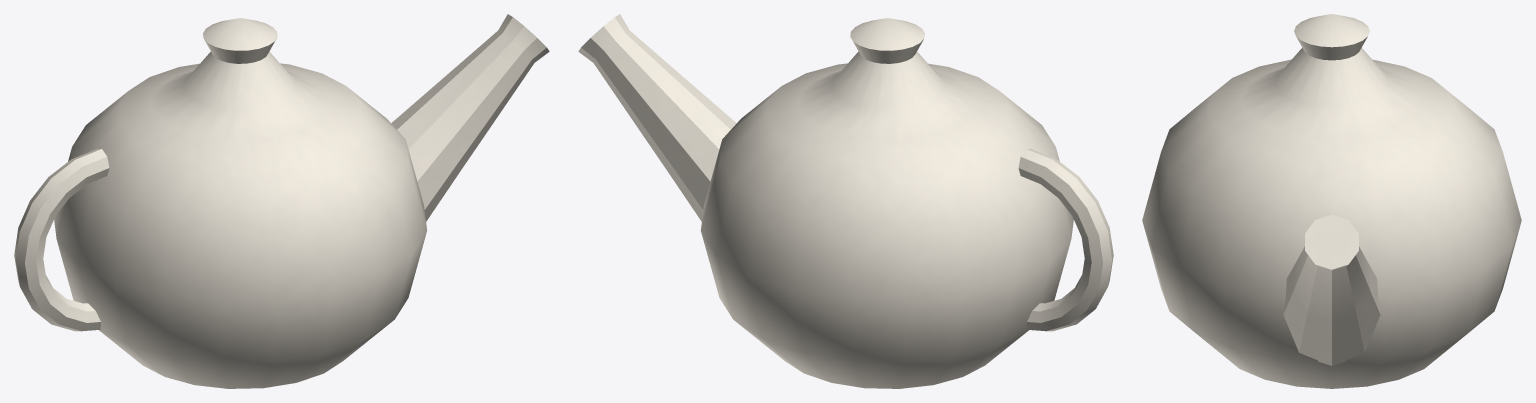
The model's file is SM_Teapot.fbx.
3 views of the same model, side by side, from view 1: azimuth 30°, elevation 25°; view 2: azimuth 150°, elevation 25°; view 3: azimuth 270°, elevation 25° (orthographic).
Visible parts, largest first — view 1: SM_Teapot; view 2: SM_Teapot; view 3: SM_Teapot.
Part boxes in pixels (x1,y1,x2,y2): SM_Teapot: [14, 14, 549, 388]; SM_Teapot: [578, 14, 1113, 388]; SM_Teapot: [1142, 14, 1521, 388].
Bounding box in the file's own units: 0.3249 × 0.19 × 0.2.
Materials: 1 (1 with a texture image).
